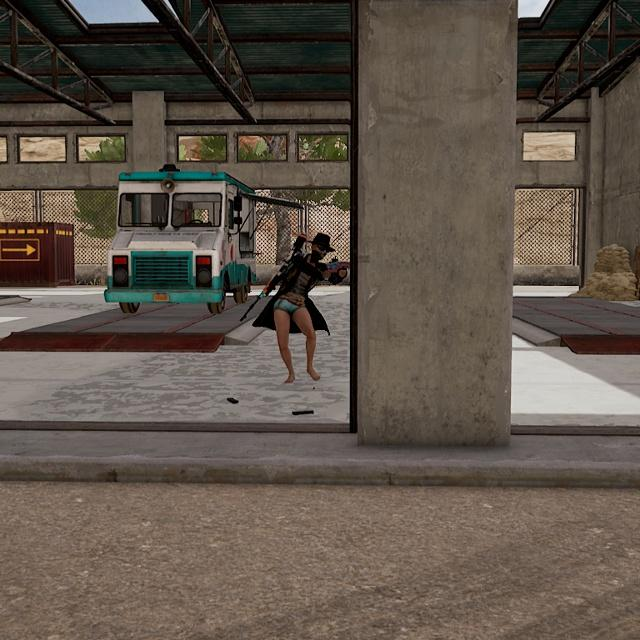head: (309, 232, 331, 264)
people: (271, 231, 337, 383)
